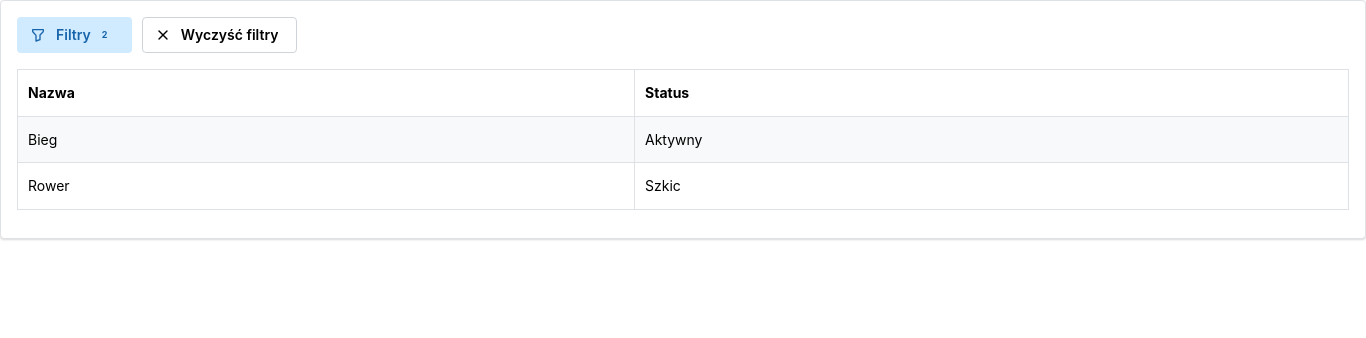
Test case: DataTable › shows filters on demand and invokes reset only when active filters exist
Later steps or results of the test are not shown.
Click the button "Filtry 2": coordinates (74, 35) [17,17,132,53]
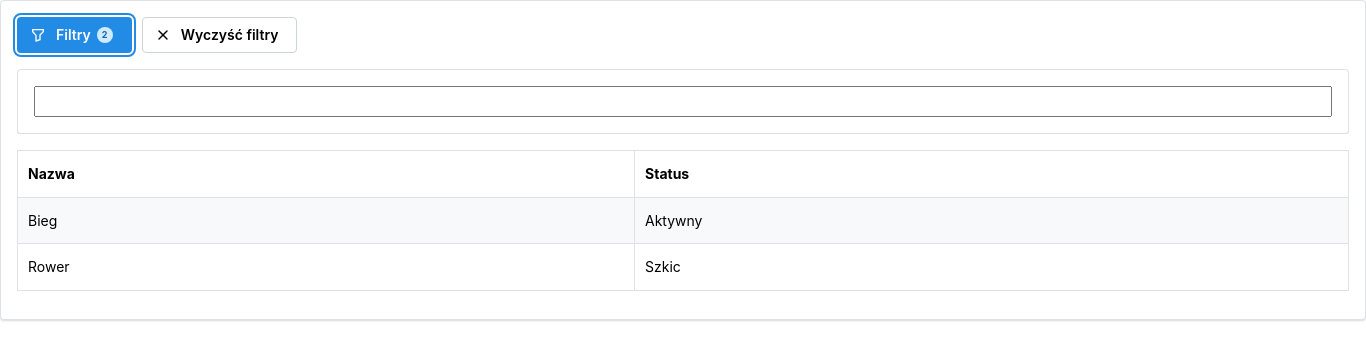
Expected: the button "Filtry 2" has attribute data-variant="filled"
Click the button "Filtry 2": coordinates (74, 35) [17,17,132,53]
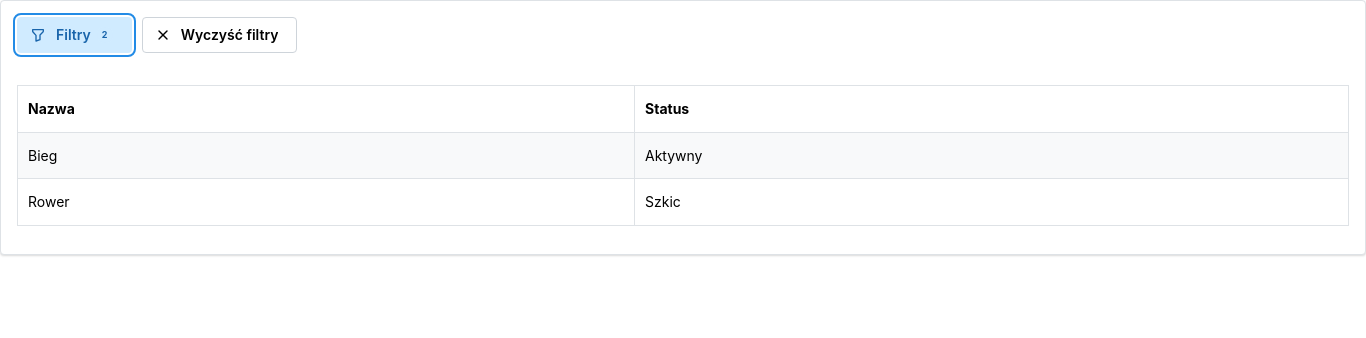
Expected: the button "Filtry 2" has attribute data-variant="light", [17,17,132,53]
